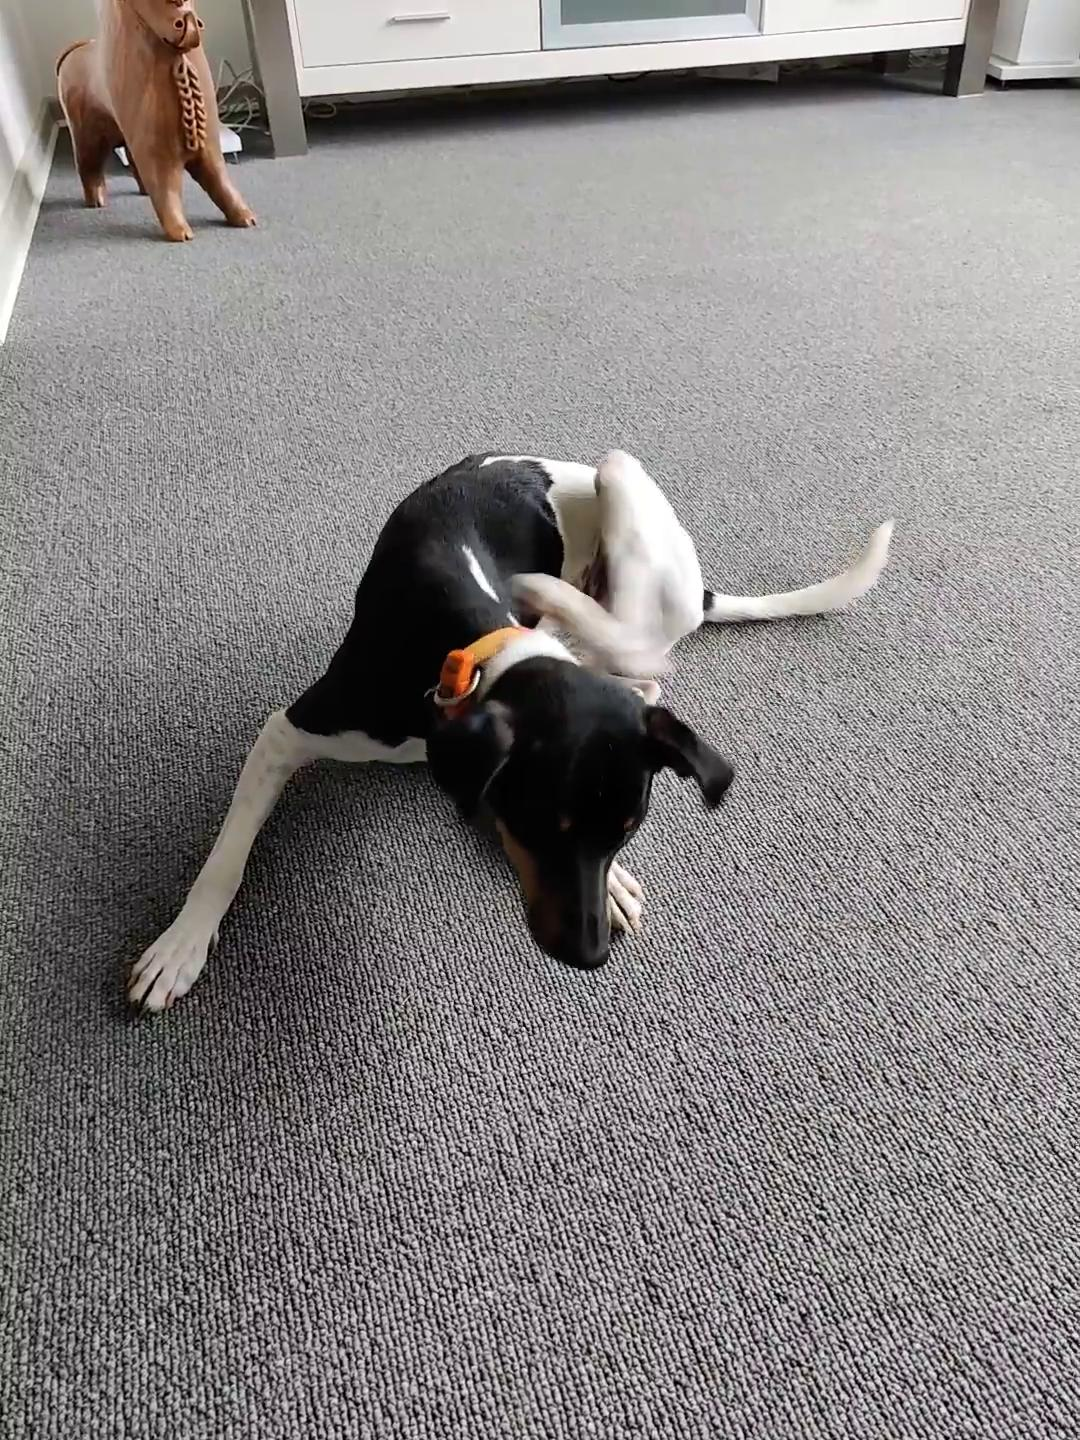Dog: (118, 443, 898, 1028)
